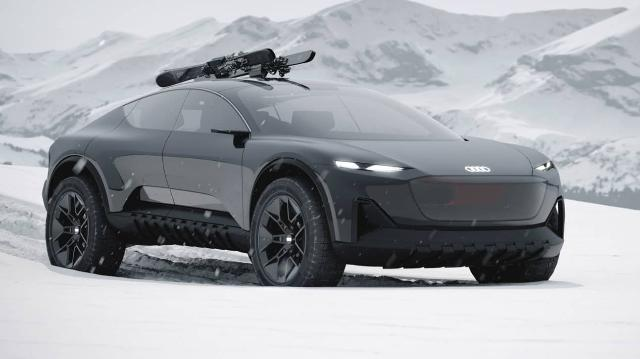audi: (42, 75, 566, 288)
